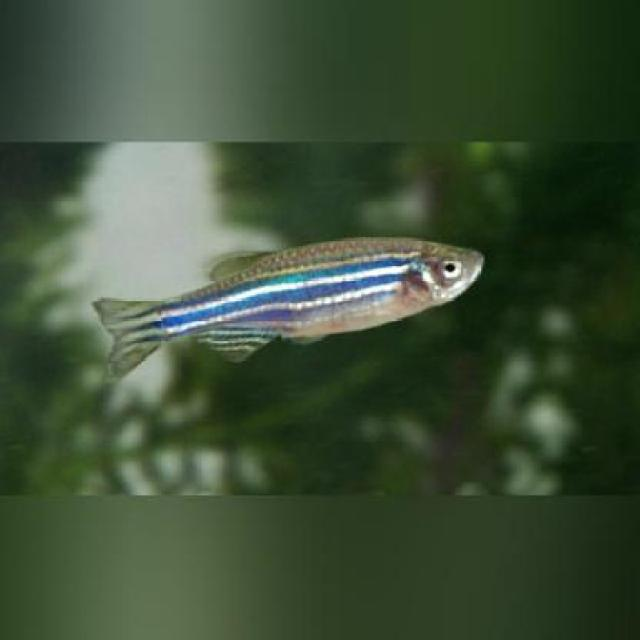ZebraFish: (92, 227, 486, 373)
